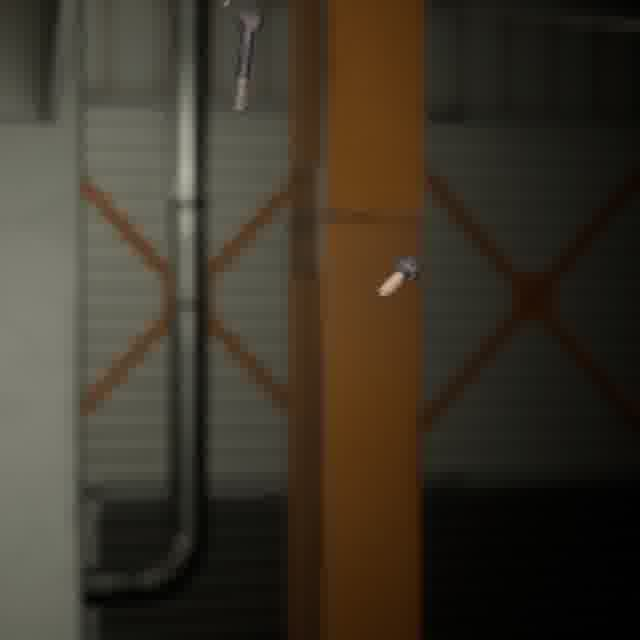bolt: (228, 8, 267, 116), (372, 251, 425, 303)
